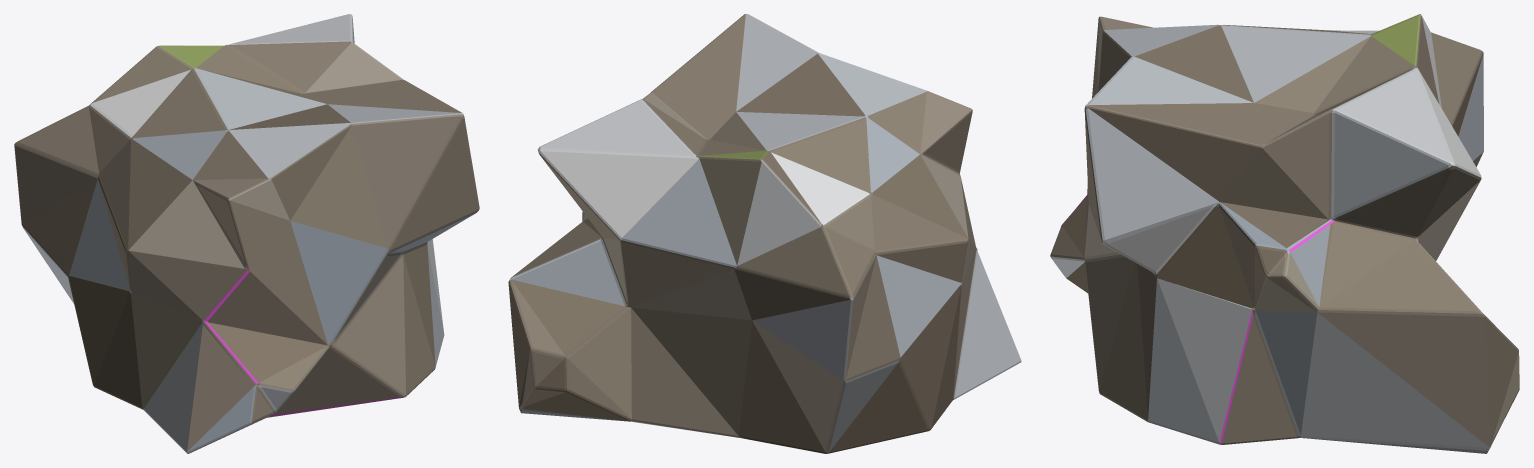
Rendered from MineableSilver_a.fbx.
3 renders of one model, left to right at view 1: azimuth 30°, elevation 25°; view 2: azimuth 150°, elevation 25°; view 3: azimuth 270°, elevation 25°, orthographic. The views are drawn at different scales.
Visible parts, largest first — view 1: MineableSilver_a; view 2: MineableSilver_a; view 3: MineableSilver_a.
Boxes of the visible parts, x1,y1,x2,y2 form: MineableSilver_a: (14,14,479,453); MineableSilver_a: (508,14,1021,453); MineableSilver_a: (1050,14,1519,453).
Size of what is drawn, in the model's own units: 0.7955 by 0.6035 by 0.7965.
